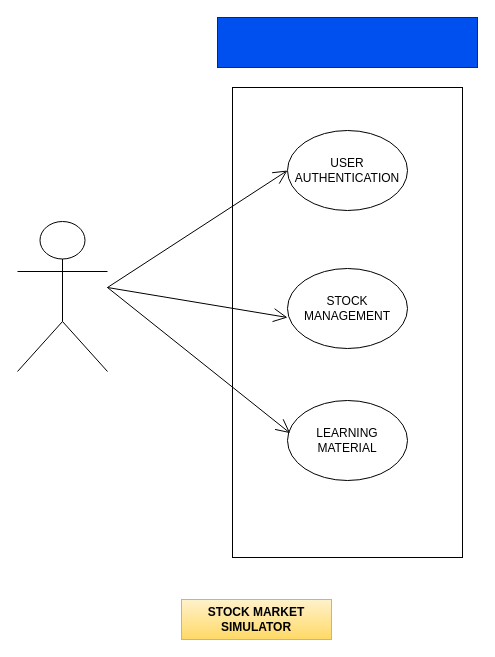
This 495x657 diagram has some shape labels left out. The shapes that lost their labels are listed below. From the top down, each one's box as (x1, y1, x2, y2) in pixels, then its label:
(216, 16, 478, 68): USECASE LEVEL 0
(16, 220, 108, 372): USER
